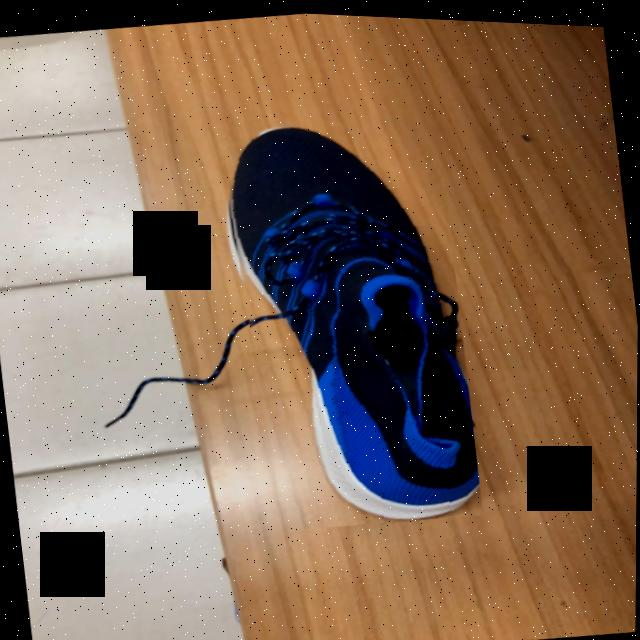shoe: (230, 125, 480, 519)
